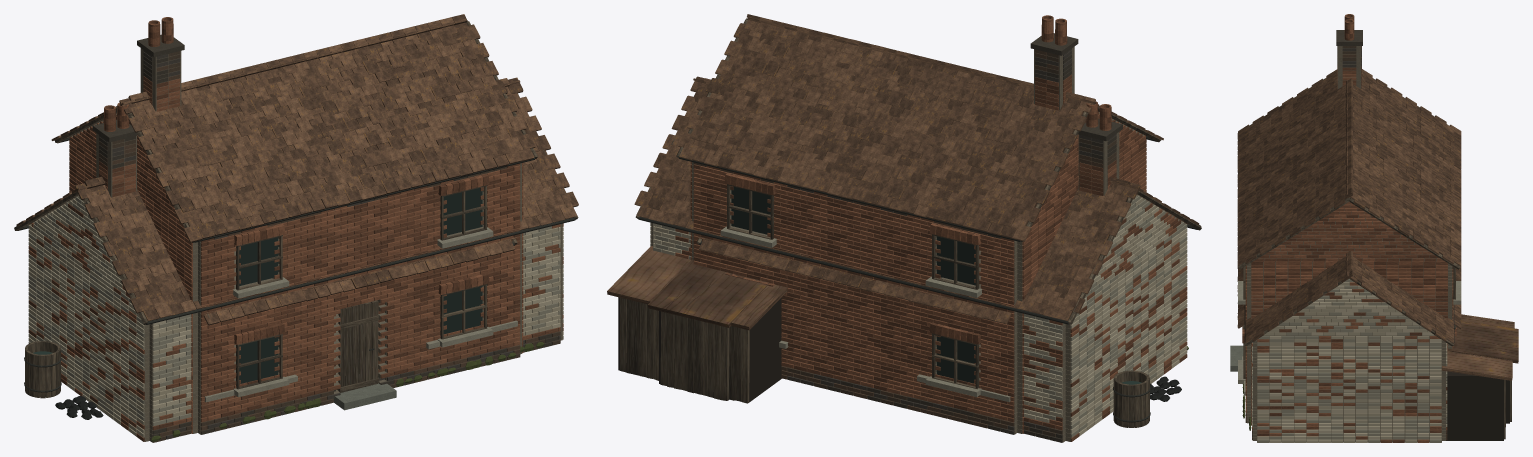
File: cottages.glb
3 renders of one model, left to right at view 1: azimuth 30°, elevation 25°; view 2: azimuth 150°, elevation 25°; view 3: azimuth 270°, elevation 25°, orthographic. The views are drawn at different scales.
Parts seen in each view (by area): view 1: Roof tiles.006, Roof tiles.010, Roof tiles.007, Roof tiles.009, Roof tiles.008, Brick.043, Roof tiles.011, Brick.041, Brick.042, Brick.023, Brick.018, Brick.019 (+54 smaller); view 2: Roof tiles.007, Roof tiles.011, Roof tiles.006, Roof tiles.009, Roof tiles.008, Roof tiles.010, Brick.043, Brick.042, Brick.041, Brick.025, Brick.027, Brick.019 (+57 smaller); view 3: Brick.041, Brick.042, Brick.043, Roof tiles.006, Roof tiles.010, Roof tiles.007, Roof tiles.009, Roof tiles.008, Roof tiles.011, Gables.002, Outhouse.002, Gables.001 (+38 smaller).
Part boxes in pixels (<box>): Roof tiles.006: <box>98,19,535,242</box>; Roof tiles.010: <box>135,24,516,224</box>; Roof tiles.007: <box>70,22,524,230</box>; Roof tiles.009: <box>51,25,534,224</box>; Roof tiles.008: <box>130,22,513,238</box>; Brick.043: <box>28,206,563,437</box>; Roof tiles.011: <box>60,38,511,223</box>; Brick.041: <box>28,196,563,426</box>; Brick.042: <box>28,195,563,431</box>; Brick.023: <box>69,126,523,406</box>; Brick.018: <box>69,120,523,422</box>; Brick.019: <box>69,145,523,429</box>; Roof tiles.007: <box>679,17,1154,211</box>; Roof tiles.011: <box>696,36,1145,238</box>; Roof tiles.006: <box>698,20,1163,229</box>; Roof tiles.009: <box>687,20,1126,241</box>; Roof tiles.008: <box>678,22,1074,235</box>; Roof tiles.010: <box>701,18,1136,220</box>; Brick.043: <box>650,207,1187,436</box>; Brick.042: <box>650,195,1187,430</box>; Brick.041: <box>650,195,1187,437</box>; Brick.025: <box>690,118,1146,414</box>; Brick.027: <box>690,121,1146,417</box>; Brick.019: <box>690,125,1146,429</box>; Brick.041: <box>1252,279,1447,442</box>; Brick.042: <box>1252,282,1447,442</box>; Brick.043: <box>1252,285,1447,442</box>; Roof tiles.006: <box>1237,69,1461,263</box>; Roof tiles.010: <box>1237,74,1461,253</box>; Roof tiles.007: <box>1237,69,1461,266</box>; Roof tiles.009: <box>1237,76,1461,265</box>; Roof tiles.008: <box>1237,74,1461,263</box>; Roof tiles.011: <box>1237,78,1461,246</box>; Gables.002: <box>1257,282,1441,442</box>; Outhouse.002: <box>1446,371,1503,440</box>; Gables.001: <box>1251,197,1447,421</box>.
Size of the model in its own units: 10.64 by 7.79 by 7.02.
Materials: 19 (10 with a texture image).
